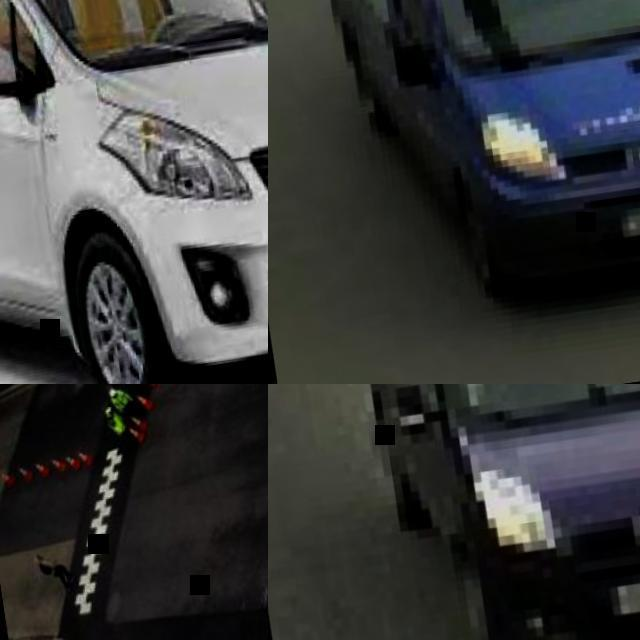car: (332, 0, 639, 303), (31, 0, 270, 384), (4, 382, 139, 537)
